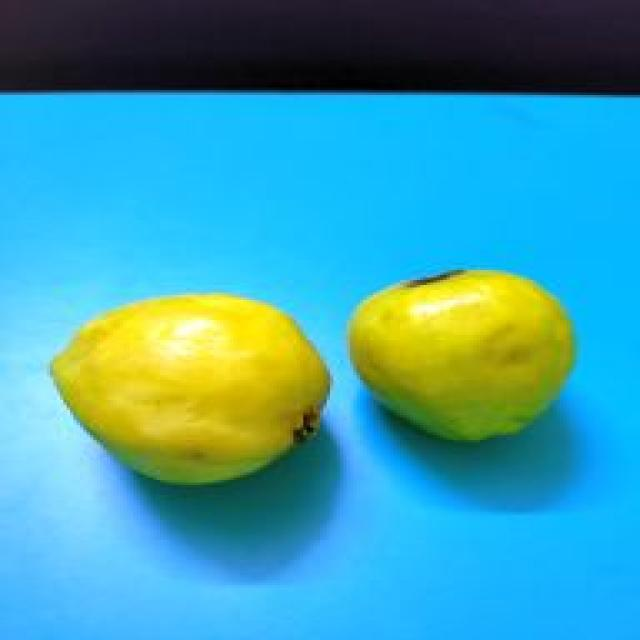Good_Guava: (47, 295, 333, 490), (347, 270, 580, 448)
